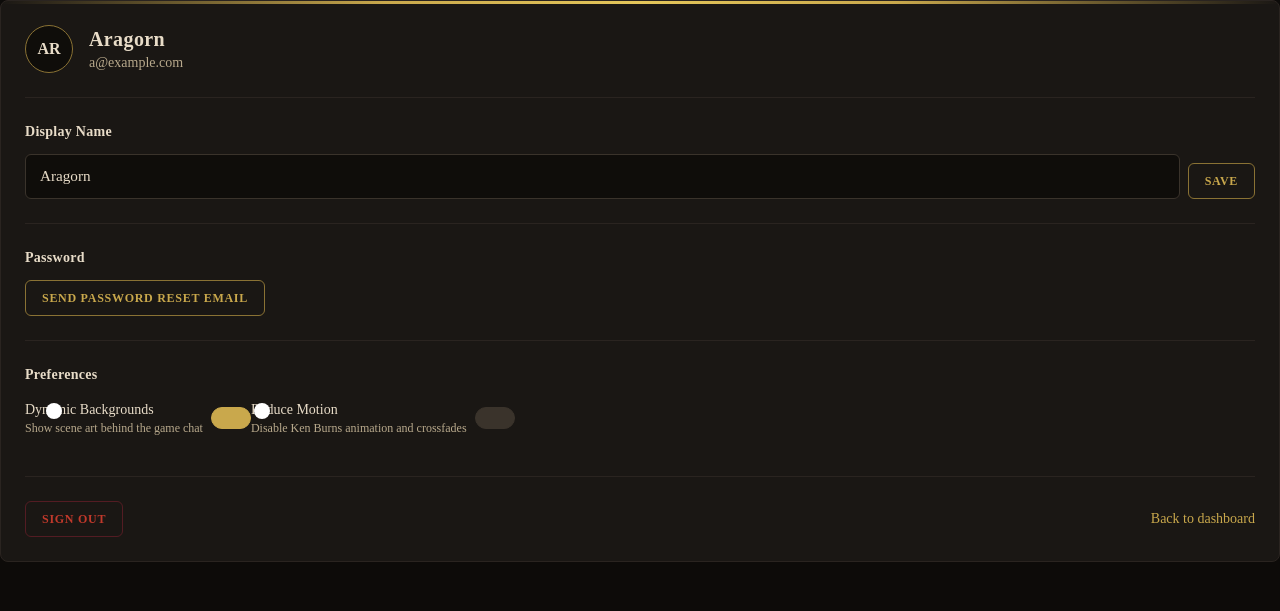
Scenario: AccountView › display name saving › PATCHes /api/auth/profile and shows success message on success
The width and height of the screenshot is (1280, 611).
Replace the text in the field named "Display name" with "Elrond": (602, 176) x1=25 y1=154 x2=1180 y2=199
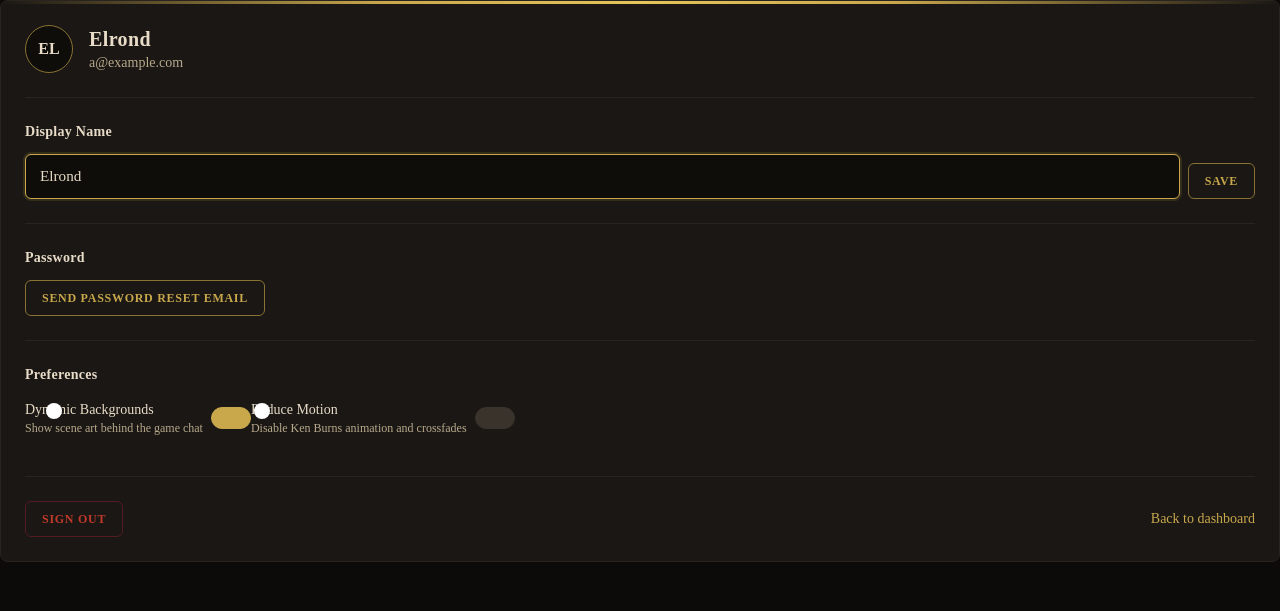
Click the button "Save": click(1221, 181) x1=1188 y1=163 x2=1255 y2=199
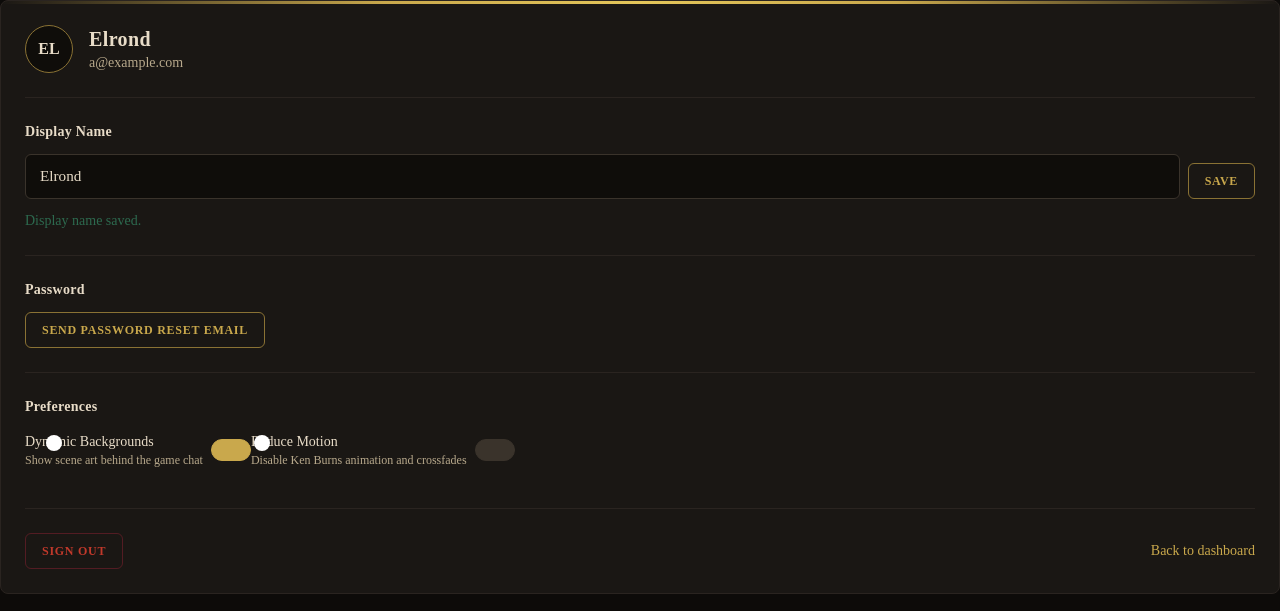
Expected: the text "Display name saved." is shown, x1=25 y1=213 x2=141 y2=228
